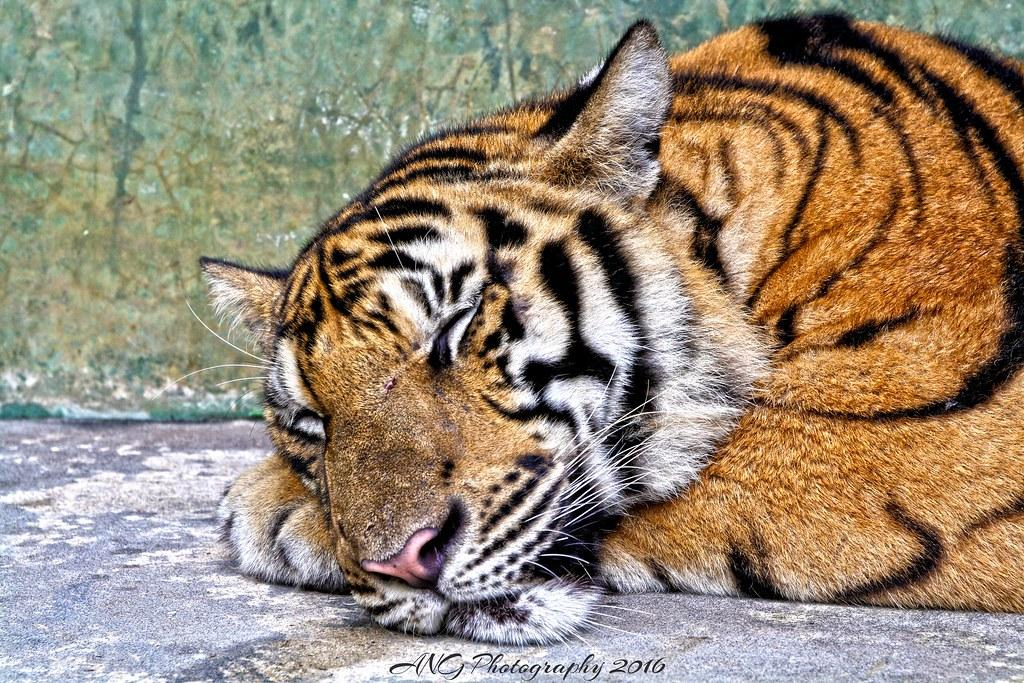tiger: (172, 10, 1023, 651)
